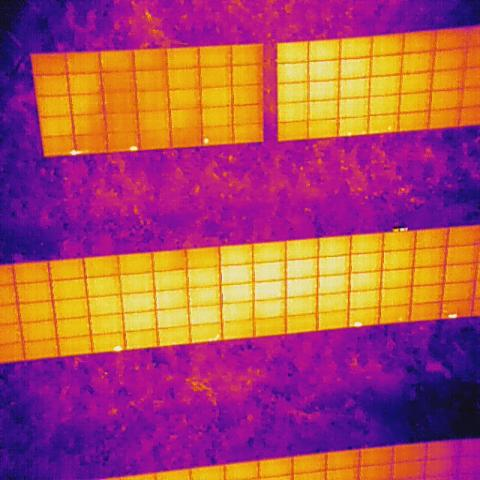fault: (66, 148, 84, 155), (446, 312, 460, 319), (352, 320, 363, 328), (112, 344, 123, 352), (128, 145, 140, 152), (202, 137, 209, 144), (386, 124, 392, 130)
